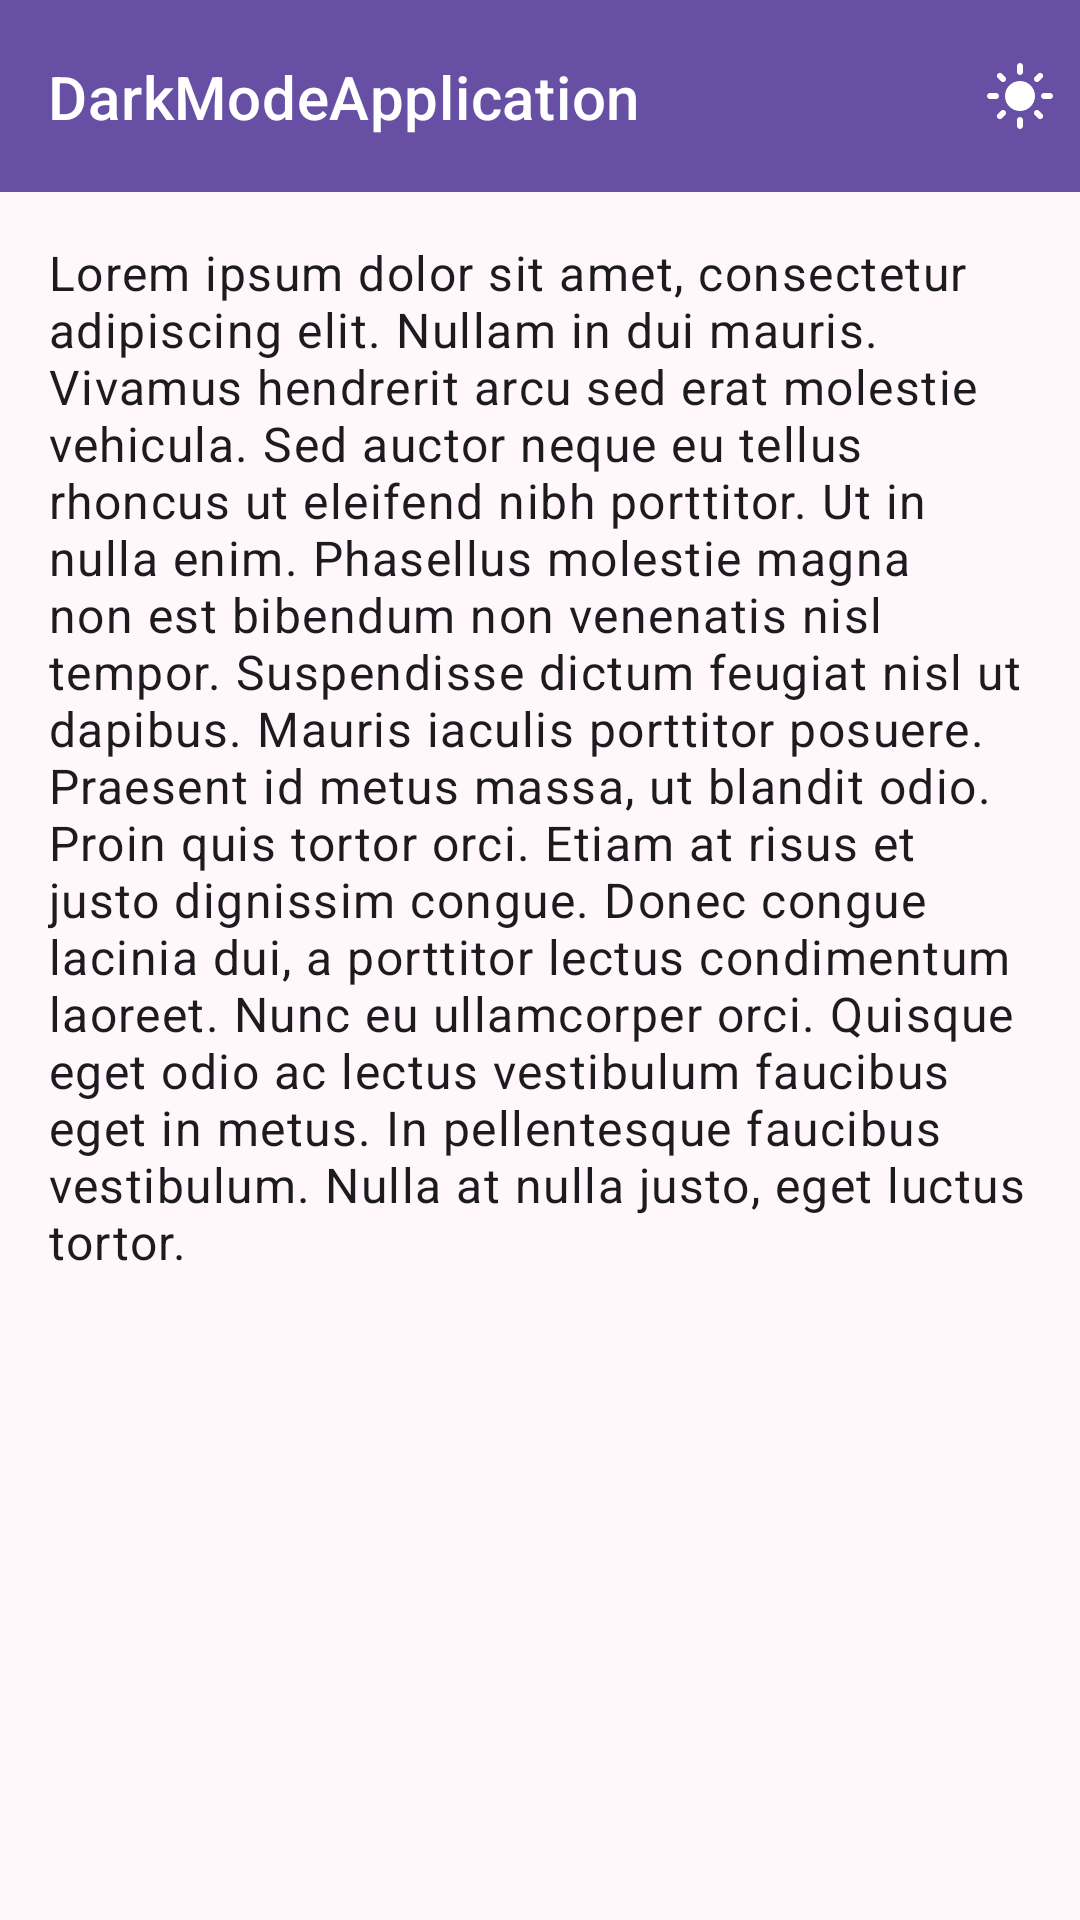

Locate icon controls on the screen. Image size 1080x1920, boxes as (left=x1, top=y1, right=x2, bottom=y2).
Theme mode icon: (left=987, top=63, right=1053, bottom=129)
